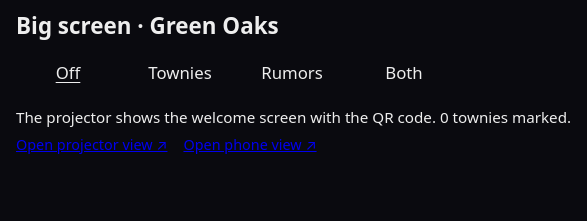
it: ScreenPickerPanel › says so when the switch fails
The width and height of the screenshot is (587, 221).
What coordinates should you click on to do the following:
click the button "Rumors"
I would click on:
 (292, 73)
Its box is [240, 51, 344, 95].
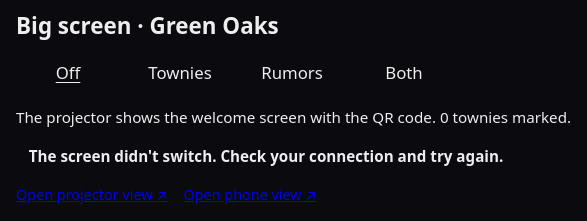
Now the message shows "didn't switch", box [29, 146, 503, 166]
